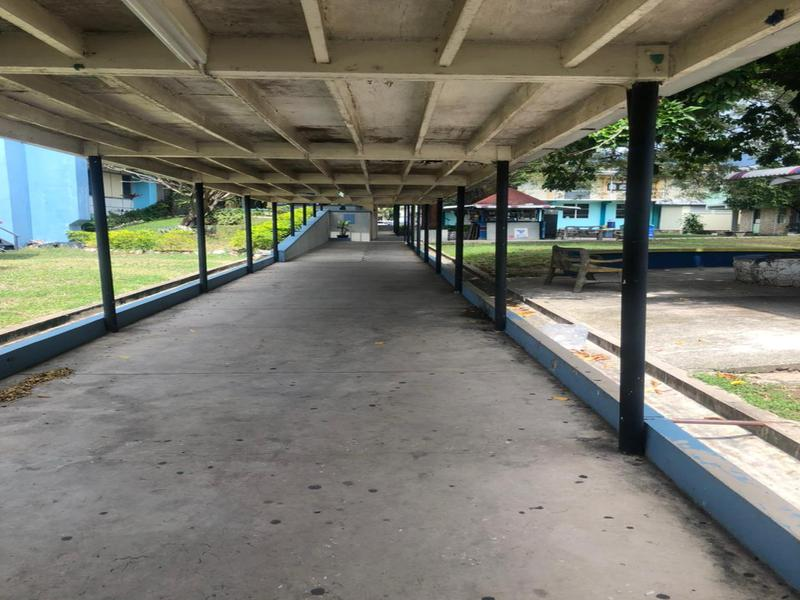stone_bench: (544, 242, 624, 301)
